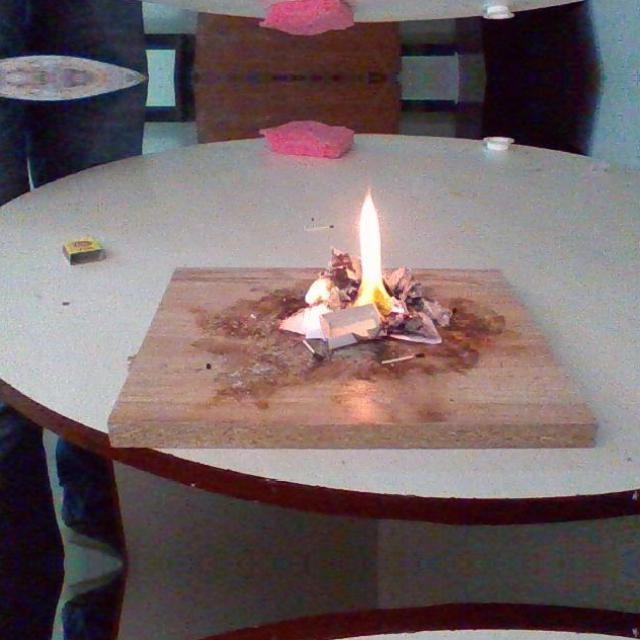smoke: (352, 190, 407, 312), (303, 278, 333, 309)
